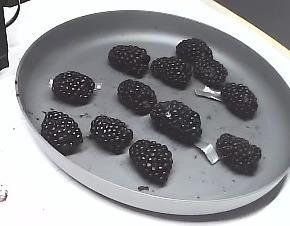berry: (150, 100, 201, 145), (129, 140, 172, 185), (216, 133, 260, 174), (41, 111, 82, 155), (90, 115, 132, 154), (52, 71, 94, 104), (118, 79, 156, 115), (220, 83, 257, 119), (108, 45, 149, 77), (150, 57, 191, 89), (194, 58, 227, 90), (176, 38, 211, 59)
